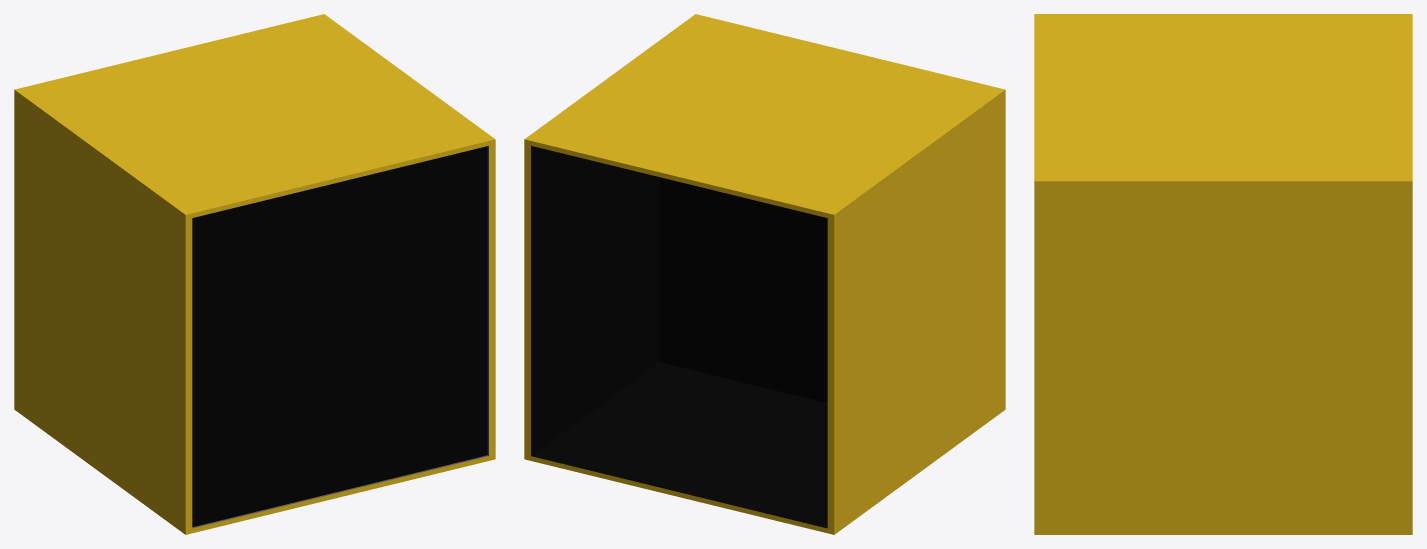
Rendered from frameMinimalist_gold.glb.
3 views of the same model, side by side, from view 1: azimuth 30°, elevation 25°; view 2: azimuth 150°, elevation 25°; view 3: azimuth 270°, elevation 25° (orthographic). The views are drawn at different scales.
Visible parts, largest first — view 1: Material2, A_PaintingMesh, Material3.001; view 2: Material2, Material3.004; view 3: Material2.
Boxes of the visible parts, x1,y1,x2,y2 form: Material2: [14, 14, 495, 534]; A_PaintingMesh: [192, 146, 487, 527]; Material3.001: [192, 146, 488, 528]; Material2: [524, 14, 1005, 534]; Material3.004: [531, 146, 827, 528]; Material2: [1034, 14, 1412, 534].
Size of what is drawn, in the model's own units: 1.05 by 1.03 by 1.
5 materials, 1 textured.
